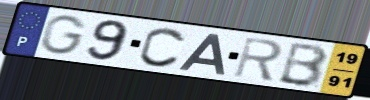9: (85, 19, 132, 63)
A: (176, 32, 227, 77)
B: (275, 41, 330, 89)
C: (137, 26, 189, 69)
G: (38, 14, 89, 57)
R: (231, 35, 285, 83)
